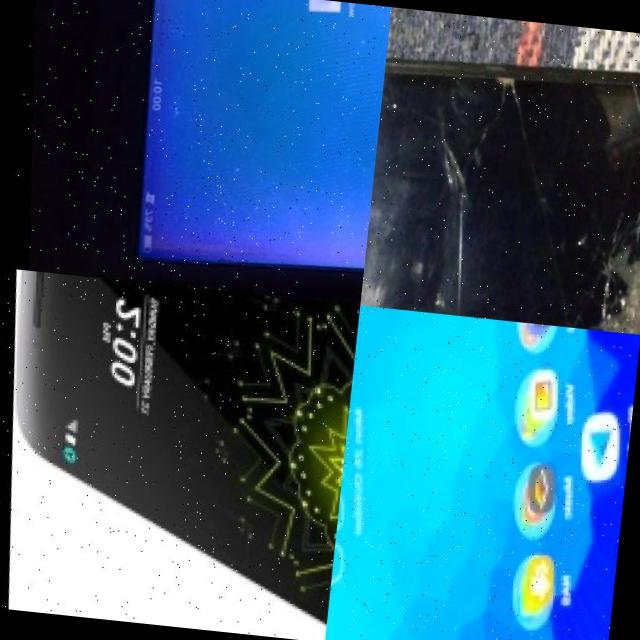screen crack: (553, 186, 640, 333), (462, 44, 540, 124), (618, 59, 640, 143)
